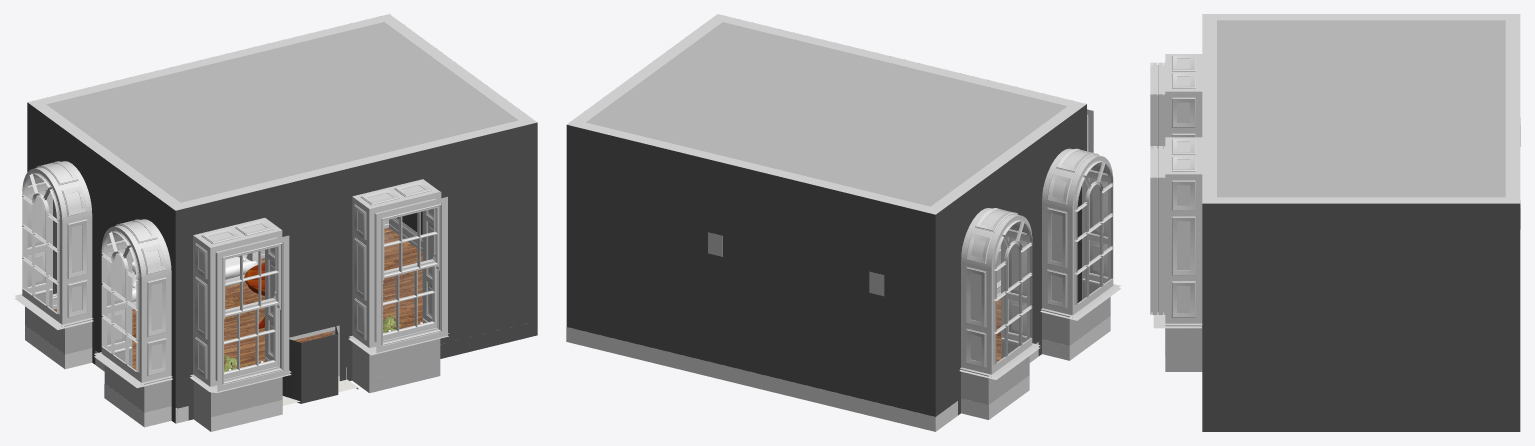
File: soggiorno2.glb
The picture shows the model from 3 angles, left to right: view 1: azimuth 30°, elevation 25°; view 2: azimuth 150°, elevation 25°; view 3: azimuth 270°, elevation 25°; orthographic projection. The views are drawn at different scales.
Parts seen in each view (by area): view 1: 33_Walls, 31_MattePaint, 27_Paneling, 00_Paneling, 34_MattePaint, 35_Paneling, 32_Floor, 21_Paneling, 20_Paneling, 16_Paneling, 15_Paneling, 36_Paneling (+6 smaller); view 2: 33_Walls, 31_MattePaint, 27_Paneling, 00_Paneling, 35_Paneling, 36_Paneling, 34_MattePaint; view 3: 33_Walls, 31_MattePaint, 35_Paneling, 21_Paneling, 16_Paneling, 20_Paneling, 34_MattePaint, 15_Paneling.
Boxes of the visible parts, bbox=[...] form: 33_Walls: bbox=[27, 102, 537, 423]; 31_MattePaint: bbox=[46, 22, 518, 202]; 27_Paneling: bbox=[94, 219, 177, 423]; 00_Paneling: bbox=[14, 161, 93, 329]; 34_MattePaint: bbox=[25, 291, 440, 431]; 35_Paneling: bbox=[28, 14, 537, 210]; 32_Floor: bbox=[53, 227, 422, 370]; 21_Paneling: bbox=[348, 179, 448, 355]; 20_Paneling: bbox=[369, 191, 447, 352]; 16_Paneling: bbox=[190, 218, 291, 392]; 15_Paneling: bbox=[210, 230, 289, 391]; 36_Paneling: bbox=[25, 218, 422, 431]; 33_Walls: bbox=[566, 104, 1086, 416]; 31_MattePaint: bbox=[586, 22, 1067, 206]; 27_Paneling: bbox=[1040, 148, 1121, 320]; 00_Paneling: bbox=[959, 208, 1040, 379]; 35_Paneling: bbox=[567, 14, 1086, 214]; 36_Paneling: bbox=[566, 280, 1110, 431]; 34_MattePaint: bbox=[961, 252, 1110, 404]; 33_Walls: bbox=[1202, 203, 1520, 431]; 31_MattePaint: bbox=[1202, 20, 1519, 203]; 35_Paneling: bbox=[1202, 14, 1520, 203]; 21_Paneling: bbox=[1153, 137, 1202, 328]; 16_Paneling: bbox=[1165, 54, 1202, 137]; 20_Paneling: bbox=[1150, 146, 1165, 314]; 34_MattePaint: bbox=[1165, 325, 1202, 371]; 15_Paneling: bbox=[1150, 62, 1165, 148].
Size of the model in its own units: 5.64 by 2.88 by 4.23.
Materials: 19 (4 with a texture image).
